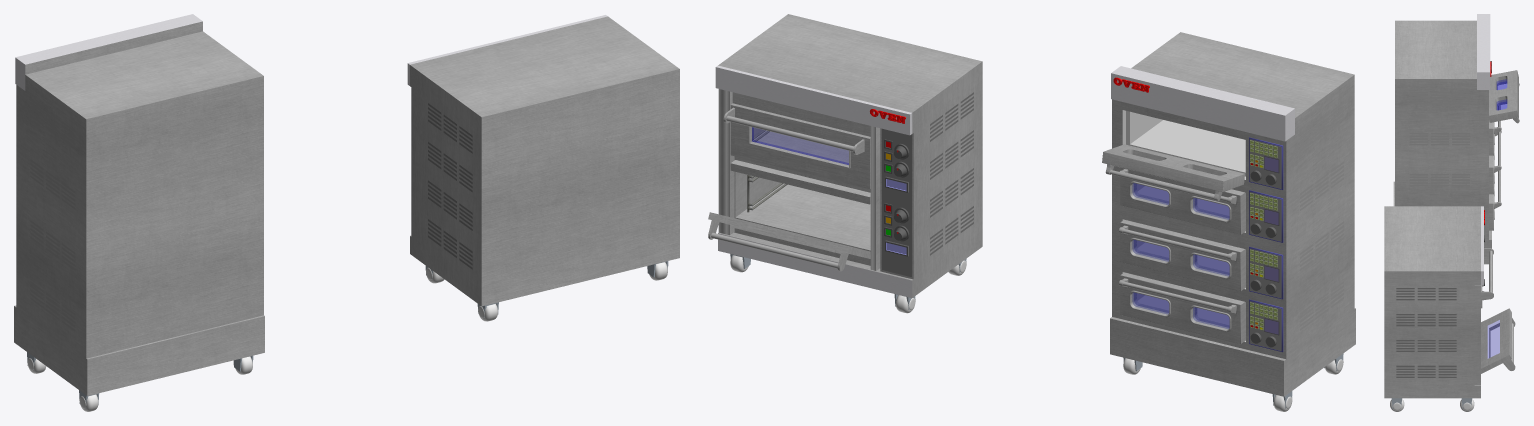
Rendered from bread_oven_-.glb.
The picture shows the model from 3 angles, left to right: view 1: azimuth 30°, elevation 25°; view 2: azimuth 150°, elevation 25°; view 3: azimuth 270°, elevation 25°; orthographic projection. The views are drawn at different scales.
Visible parts, largest first — view 1: Material3, Material2 (×4); view 2: Material3 (×6), Material2 (×11); view 3: Material3, Material2 (×5).
Boxes of the visible parts, <box> form: Material3: <box>14,16,679,395</box>; Material2 (×4): <box>15,14,667,411</box>; Material3 (×6): <box>708,14,1355,396</box>; Material2 (×11): <box>715,65,1343,411</box>; Material3: <box>1384,20,1519,398</box>; Material2 (×5): <box>1390,14,1507,411</box>.
Size of the model in its own units: 119 by 60.2 by 35.26.
Materials: 30 (6 with a texture image).
